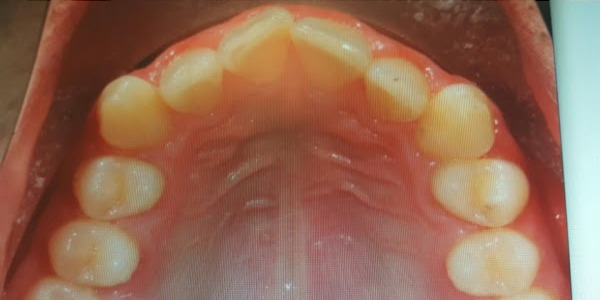UL1BC_healthy: (432, 160, 529, 228)
UL2BC_healthy: (447, 228, 539, 295)
ULCI_healthy: (293, 18, 370, 84)
ULC_healthy: (422, 85, 494, 158)
ULLI_healthy: (367, 58, 427, 118)
UR1BC_healthy: (75, 157, 163, 218)
UR2BC_healthy: (52, 221, 137, 287)
URCI_healthy: (220, 8, 293, 79)
URC_healthy: (100, 76, 165, 148)
URLI_healthy: (160, 46, 220, 110)
